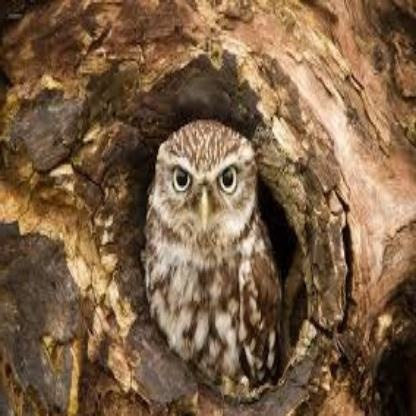Owl: (149, 123, 280, 395)
